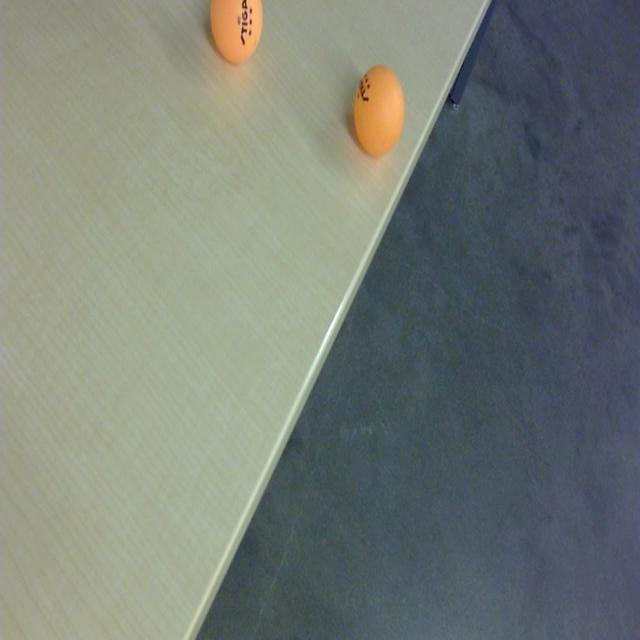ball: (349, 65, 406, 159), (206, 0, 264, 67)
